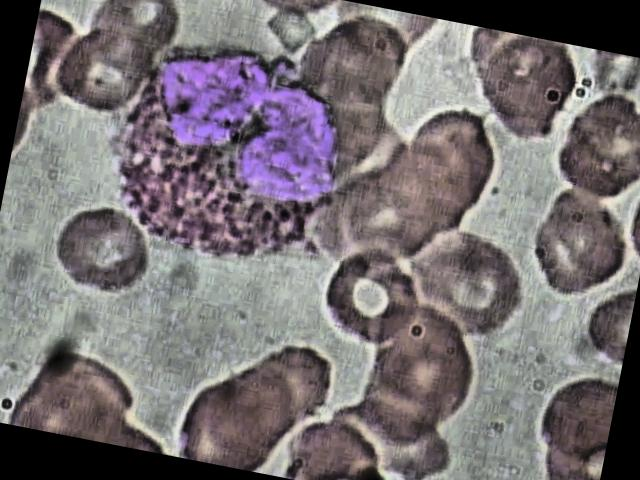RBC: (401, 226, 534, 348), (534, 80, 640, 213), (536, 82, 640, 215), (44, 195, 167, 304), (308, 242, 430, 351), (38, 17, 160, 126), (515, 198, 638, 306), (69, 0, 192, 84)
WBC: (86, 22, 364, 282)
